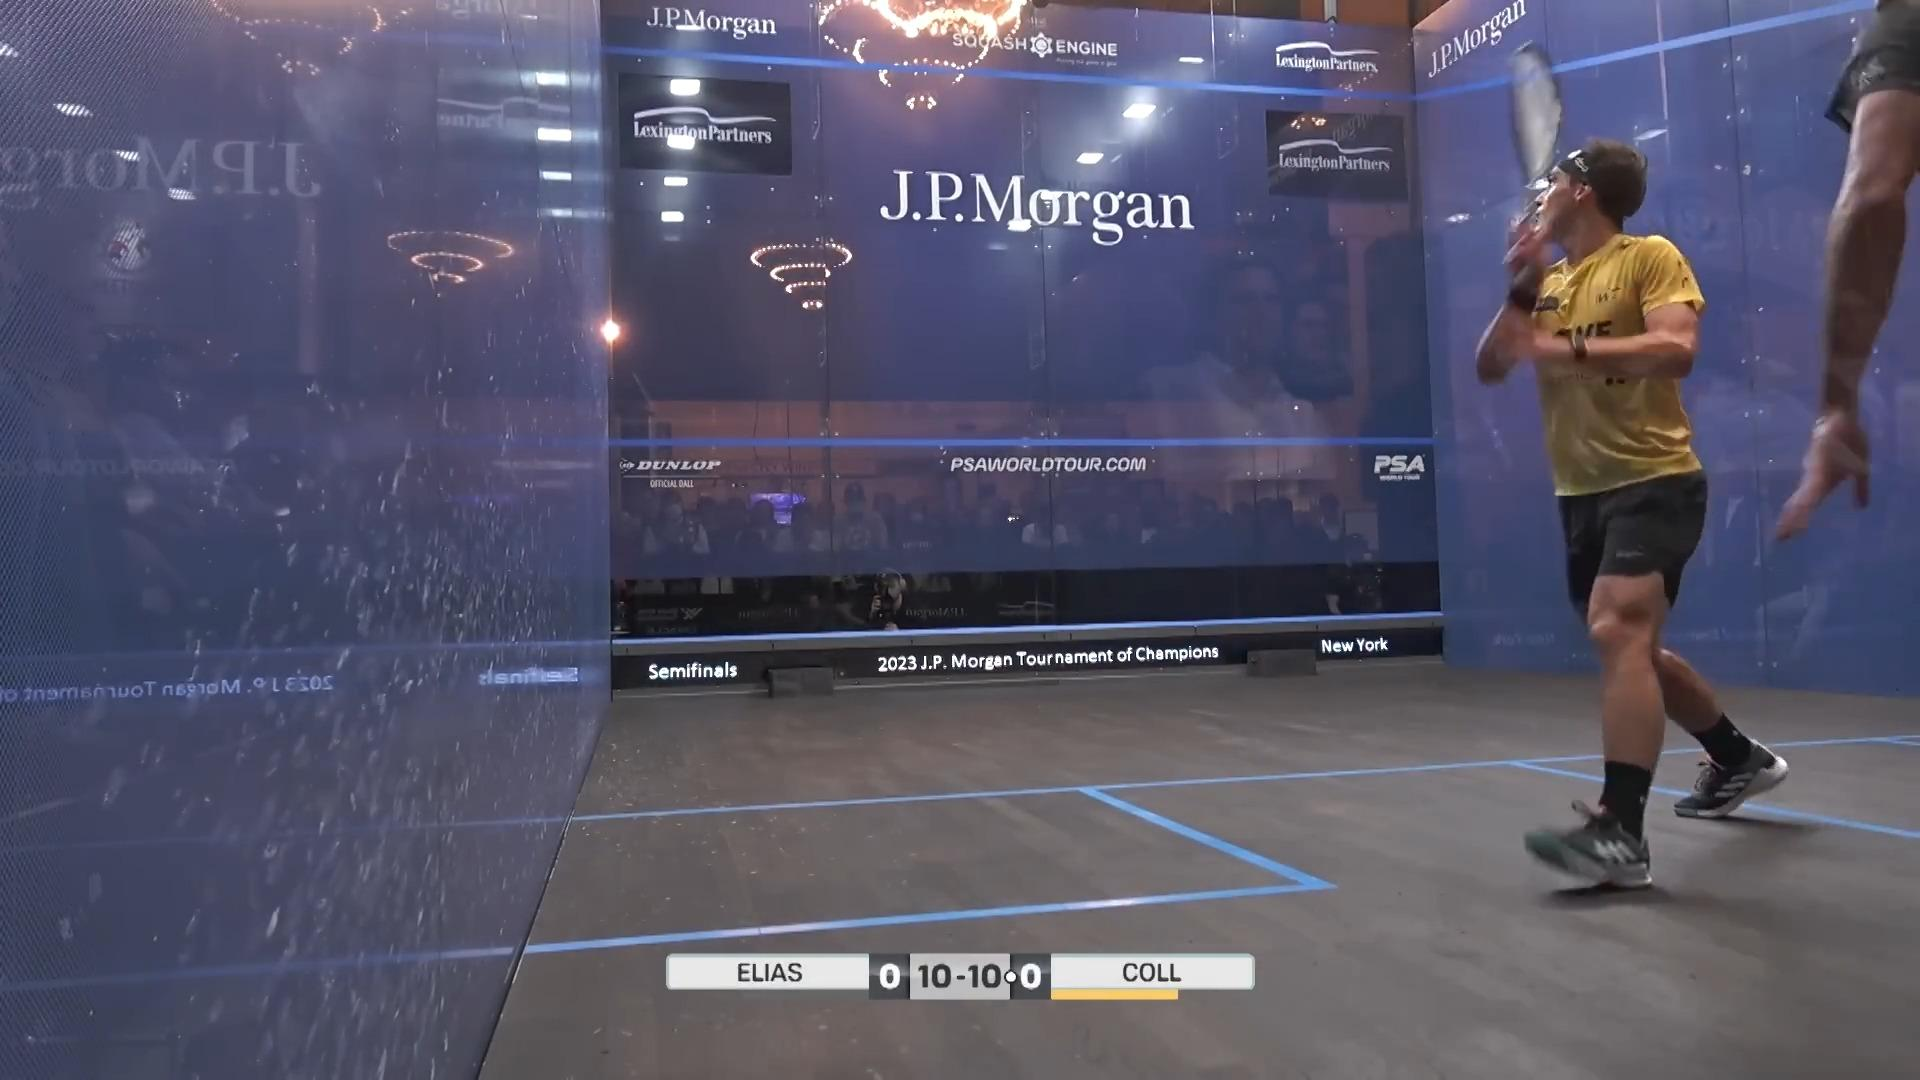Racket: (1493, 34, 1573, 295)
